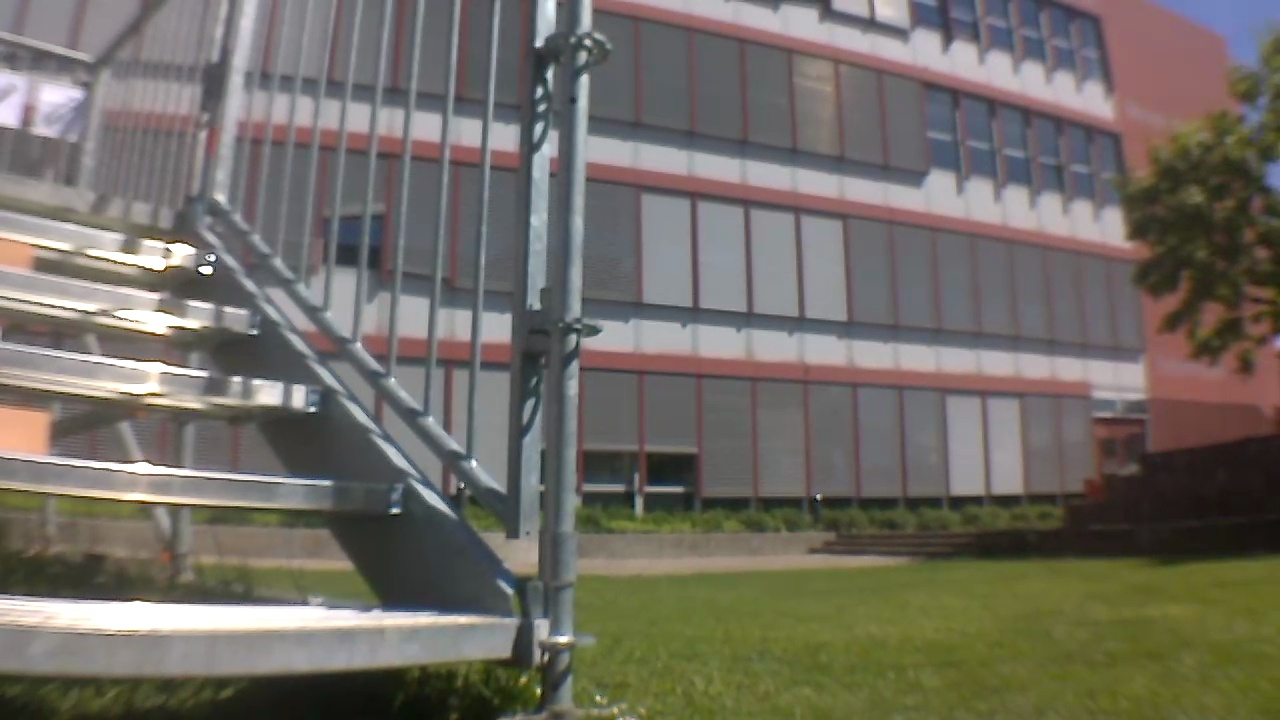brick: (0, 401, 62, 458)
edge: (0, 591, 529, 678), (0, 347, 329, 399), (0, 469, 419, 506), (0, 289, 266, 324), (0, 219, 222, 257)
